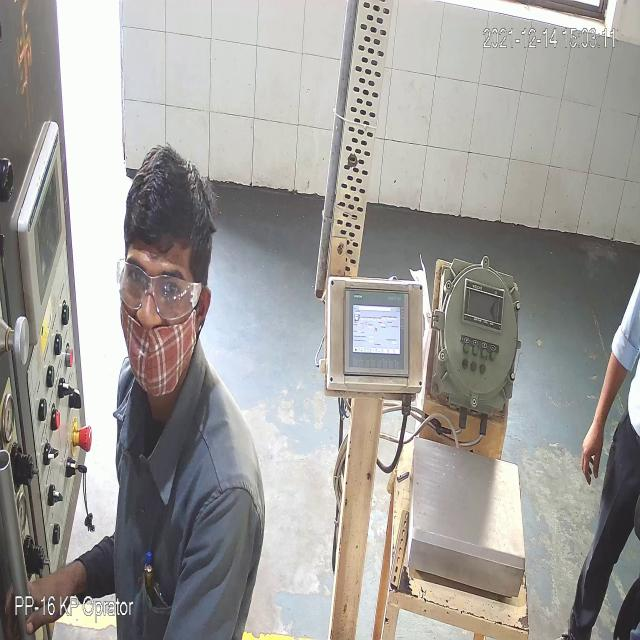glasses: (120, 253, 203, 320)
